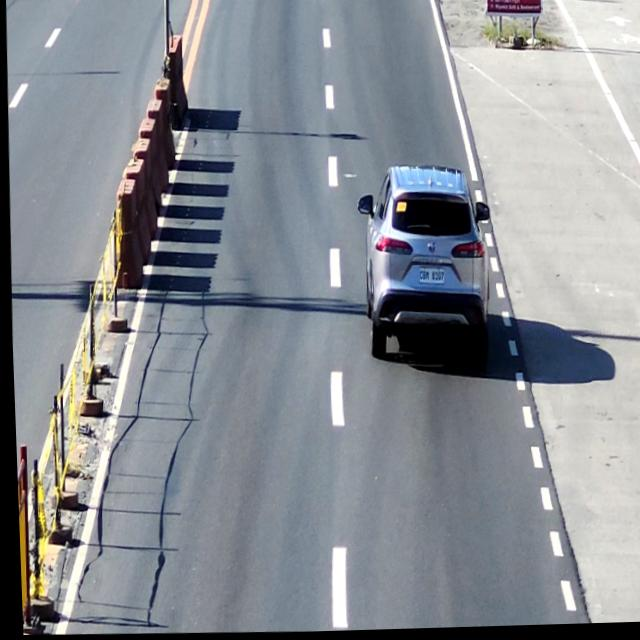Car: (357, 163, 496, 372)
License-Plate: (415, 264, 446, 292)
